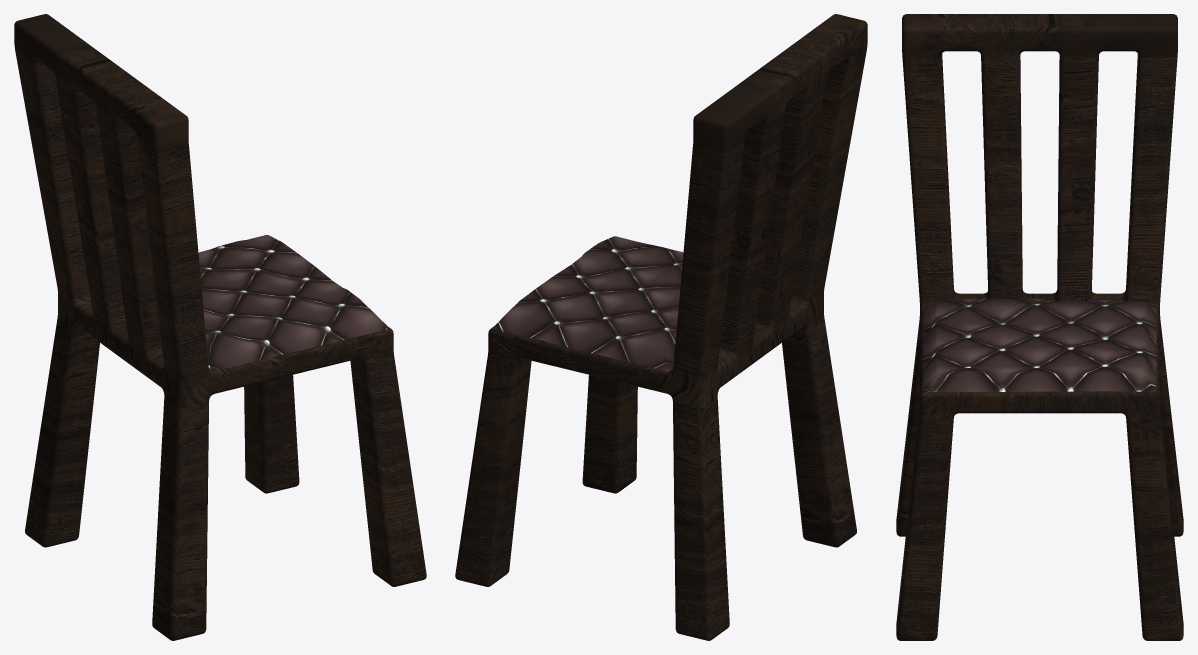
Rendered from chair2.fbx.
3 views of the same model, side by side, from view 1: azimuth 30°, elevation 25°; view 2: azimuth 150°, elevation 25°; view 3: azimuth 270°, elevation 25° (orthographic). The views are drawn at different scales.
Parts seen in each view (by area): view 1: Cube; view 2: Cube; view 3: Cube.
Part boxes in pixels (box(x1,y1,x2,y2)): Cube: box(14, 14, 426, 640); Cube: box(455, 14, 867, 640); Cube: box(896, 14, 1183, 640).
Size of the model in its own units: 252 by 462 by 239.
